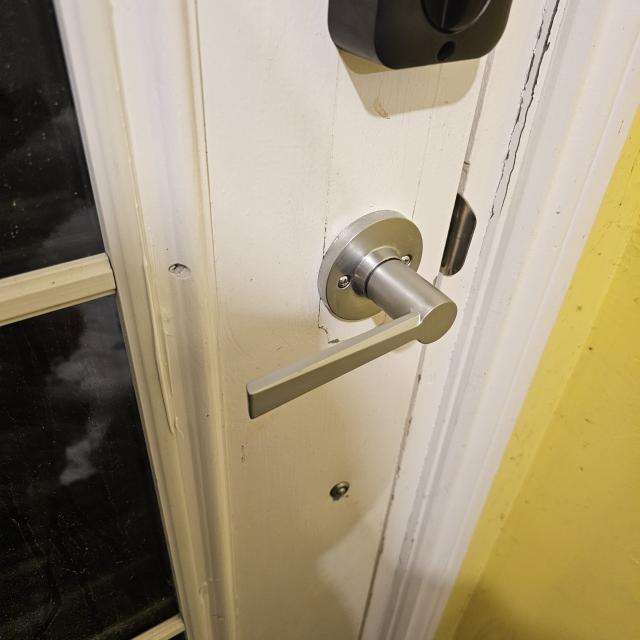door-handle: (248, 210, 456, 418)
